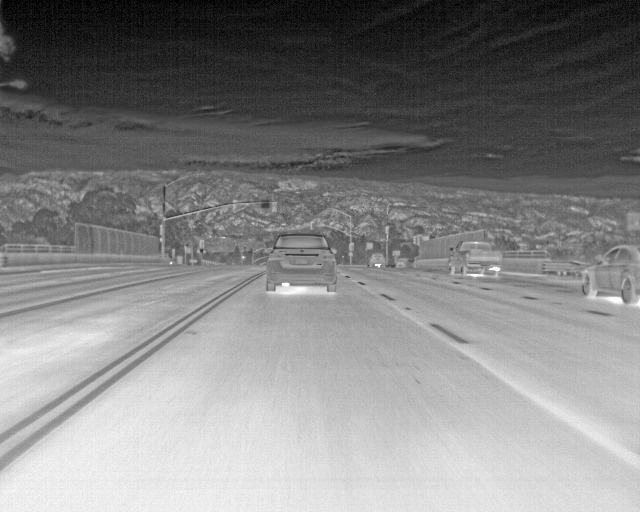vehicle: (266, 232, 335, 294), (577, 247, 639, 303), (448, 238, 503, 279)
